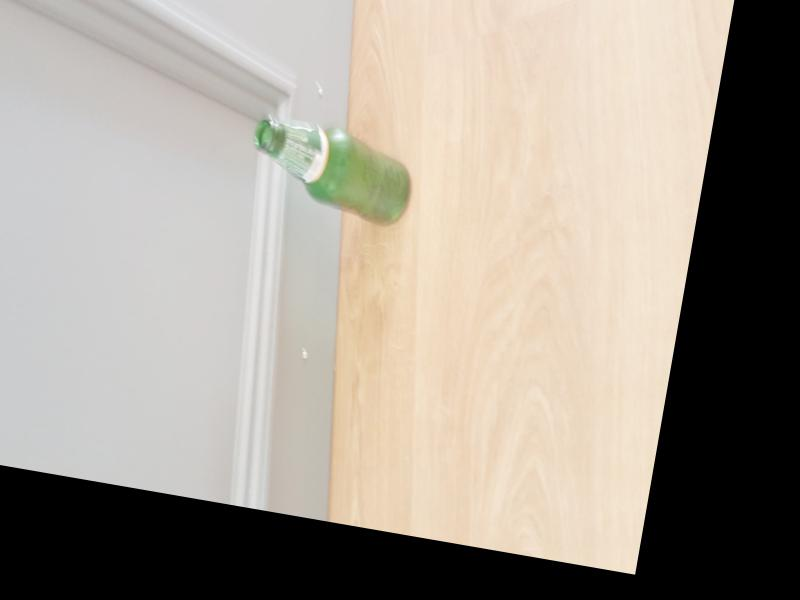Beer: (246, 117, 418, 226)
